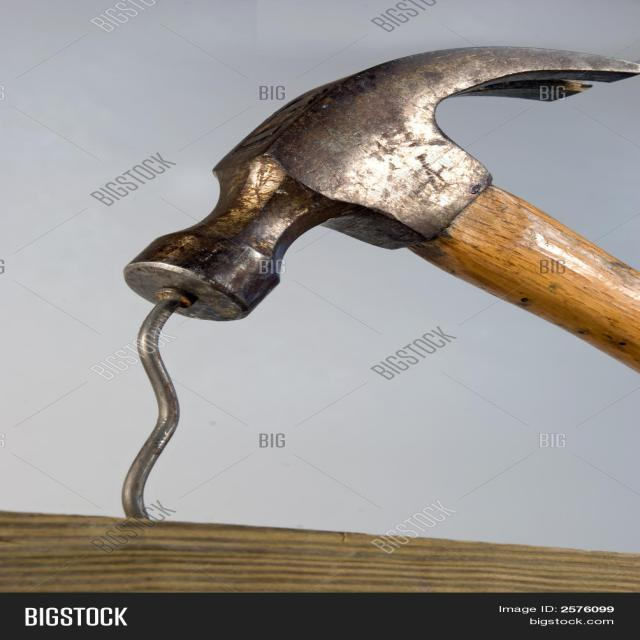hammer: (107, 39, 640, 377)
